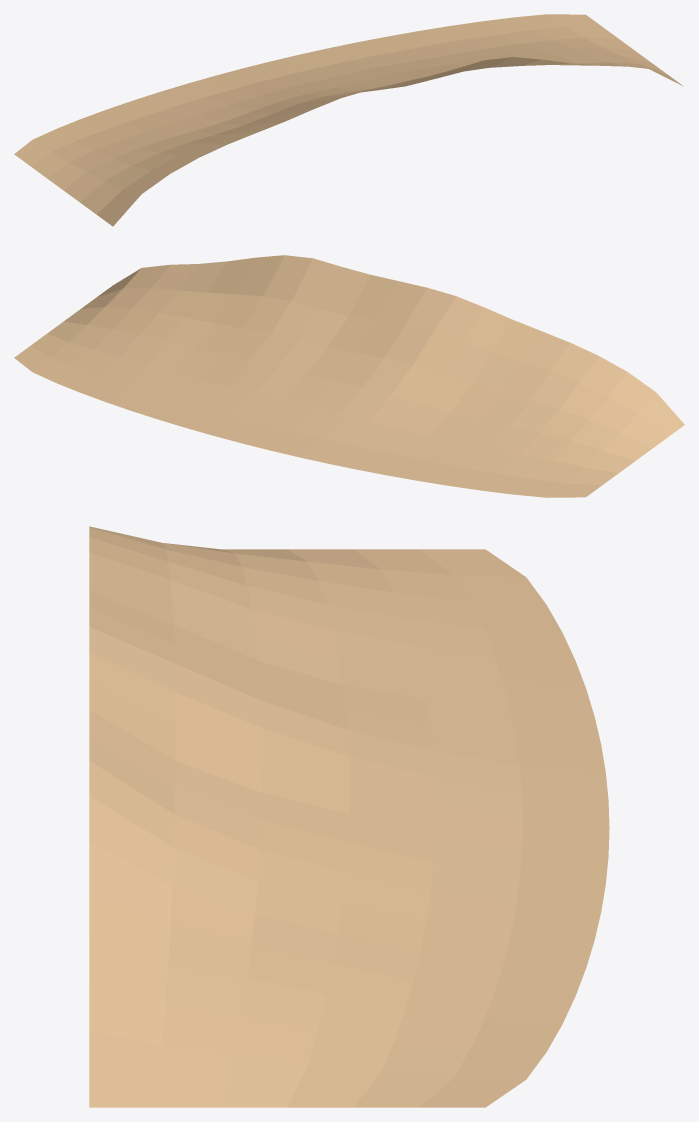
File: SM_DST_Prop_Sand_Drift_B.fbx
3 views of the same model, one above another, from view 1: azimuth 30°, elevation 25°; view 2: azimuth 150°, elevation 25°; view 3: azimuth 270°, elevation 25° (orthographic). The views are drawn at different scales.
Visible parts, largest first — view 1: SM_DST_Prop_Sand_Drift_B.022; view 2: SM_DST_Prop_Sand_Drift_B.022; view 3: SM_DST_Prop_Sand_Drift_B.022.
Boxes of the visible parts, <box> form: SM_DST_Prop_Sand_Drift_B.022: <box>14,14,683,226</box>; SM_DST_Prop_Sand_Drift_B.022: <box>14,255,684,497</box>; SM_DST_Prop_Sand_Drift_B.022: <box>89,526,609,1107</box>.
Size of the model in its own units: 4 by 0.5067 by 1.58.
